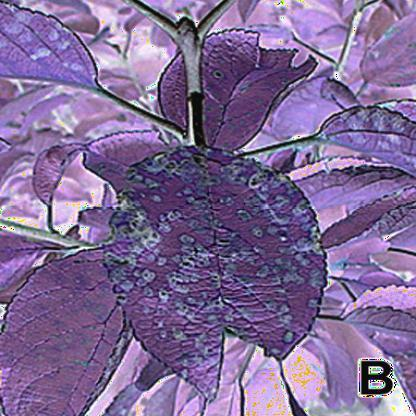Apple Scab Leaf: (100, 131, 341, 400)
